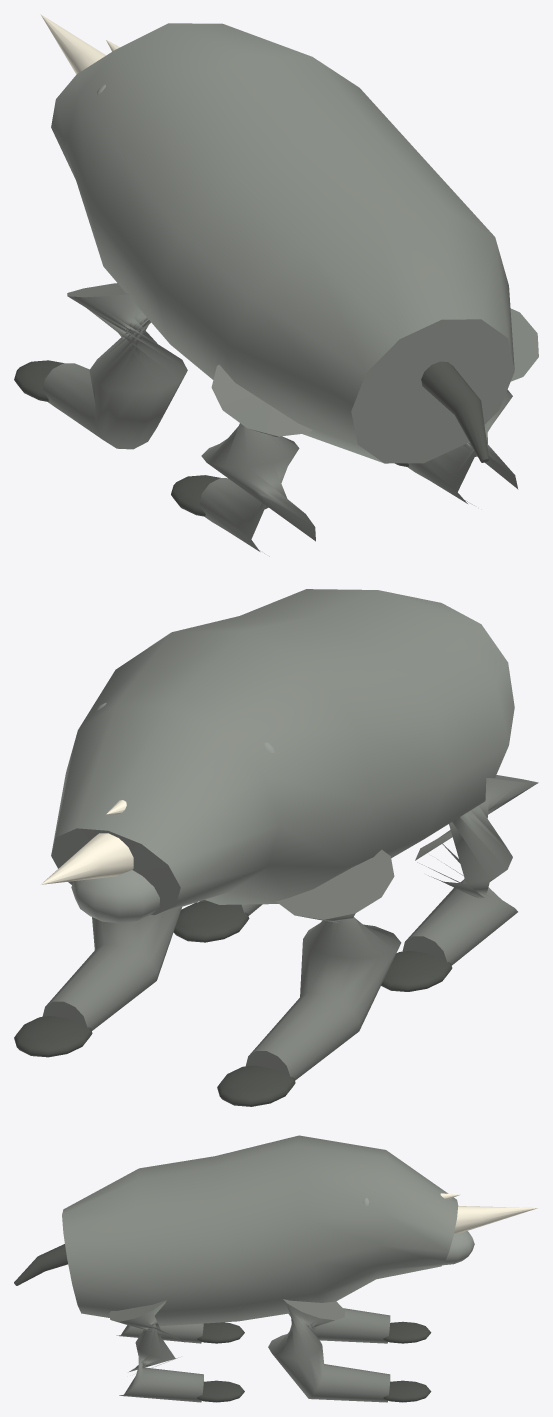
File: rhino_hero.glb
3 renders of one model, top to bottom at view 1: azimuth 30°, elevation 25°; view 2: azimuth 150°, elevation 25°; view 3: azimuth 270°, elevation 25°, orthographic. The views are drawn at different scales.
Visible parts, largest first — view 1: RhinoOrganicBody, Leg_LF, Leg_LH, Leg_RH, Tail, HornDetail_0, Paw_LH, Paw_LF; view 2: RhinoOrganicBody, Leg_LF, Leg_LH, Leg_RF, Muzzle, HornDetail_0, Paw_RF, Paw_LF, Paw_RH, Paw_LH; view 3: RhinoOrganicBody, Leg_RF, Leg_RH, Leg_LF, HornDetail_0, Tail, Leg_LH, Paw_RF, Paw_LF, Paw_RH, Paw_LH, Muzzle.
Part boxes in pixels (x1=…): RhinoOrganicBody: x1=51, y1=23, x2=514, y2=463; Leg_LF: x1=42, y1=283, x2=187, y2=449; Leg_LH: x1=199, y1=364, x2=315, y2=556; Leg_RH: x1=407, y1=308, x2=538, y2=505; Tail: x1=421, y1=361, x2=488, y2=462; HornDetail_0: x1=40, y1=14, x2=105, y2=74; Paw_LH: x1=171, y1=475, x2=220, y2=516; Paw_LF: x1=14, y1=360, x2=63, y2=401; RhinoOrganicBody: x1=51, y1=589, x2=514, y2=915; Leg_LF: x1=246, y1=849, x2=401, y2=1080; Leg_LH: x1=402, y1=775, x2=538, y2=965; Leg_RF: x1=42, y1=907, x2=181, y2=1030; Muzzle: x1=71, y1=870, x2=159, y2=923; HornDetail_0: x1=40, y1=833, x2=133, y2=884; Paw_RF: x1=14, y1=1016, x2=92, y2=1057; Paw_LF: x1=217, y1=1065, x2=295, y2=1106; Paw_RH: x1=173, y1=901, x2=249, y2=942; Paw_LH: x1=381, y1=950, x2=452, y2=991; RhinoOrganicBody: x1=62, y1=1135, x2=458, y2=1326; Leg_RF: x1=268, y1=1299, x2=390, y2=1402; Leg_RH: x1=109, y1=1300, x2=203, y2=1402; Leg_LF: x1=288, y1=1308, x2=390, y2=1343; HornDetail_0: x1=454, y1=1206, x2=537, y2=1233; Tail: x1=14, y1=1244, x2=67, y2=1285; Leg_LH: x1=116, y1=1323, x2=203, y2=1343; Paw_RF: x1=383, y1=1380, x2=431, y2=1402; Paw_LF: x1=383, y1=1321, x2=431, y2=1343; Paw_RH: x1=197, y1=1380, x2=244, y2=1402; Paw_LH: x1=197, y1=1322, x2=244, y2=1343; Muzzle: x1=443, y1=1231, x2=474, y2=1265.
Size of the model in its own units: 2.1 by 2.42 by 5.1.
